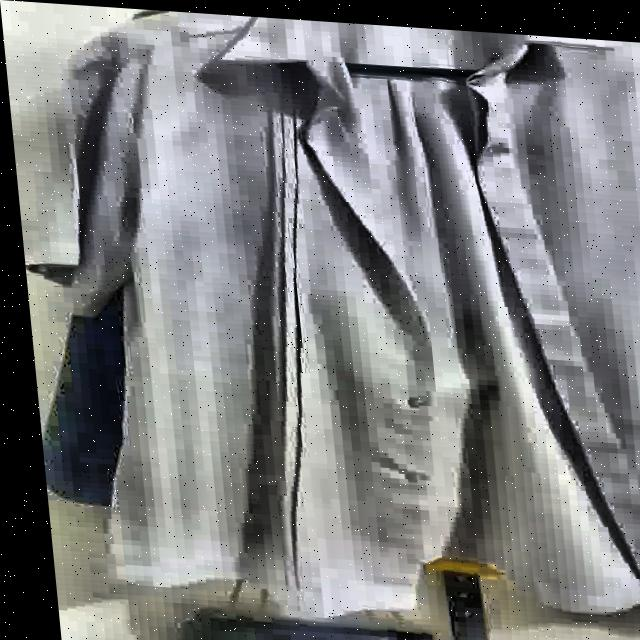clothes: (0, 0, 640, 631)
